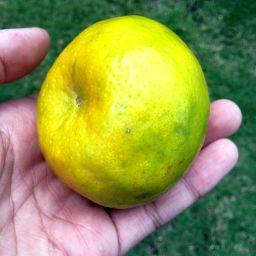Ripe: (35, 17, 209, 204)
